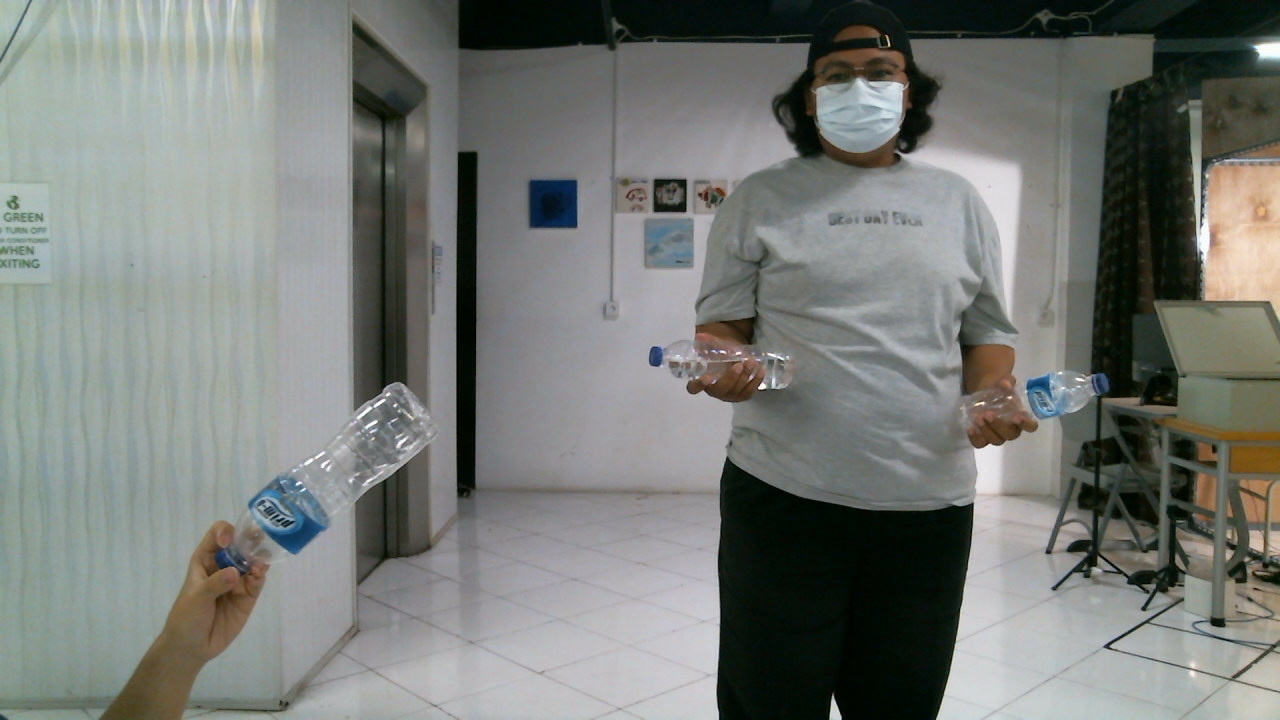Bottle: (211, 381, 436, 574), (957, 369, 1107, 435)
